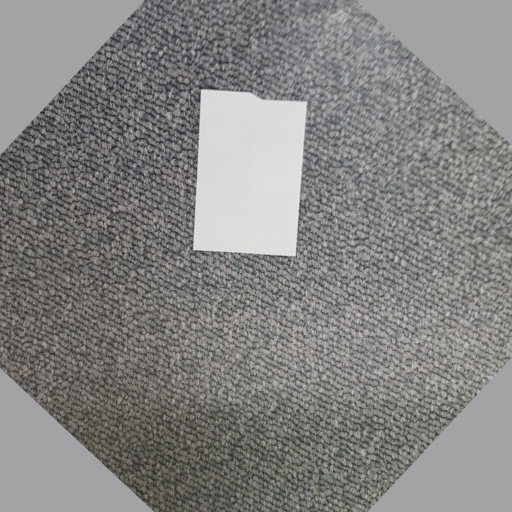Paper_2: (182, 80, 325, 265)
